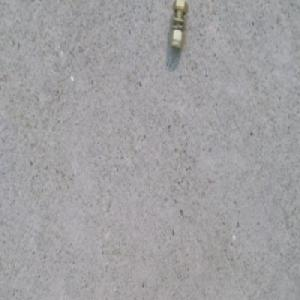BoltNutSet: (167, 0, 191, 50)
